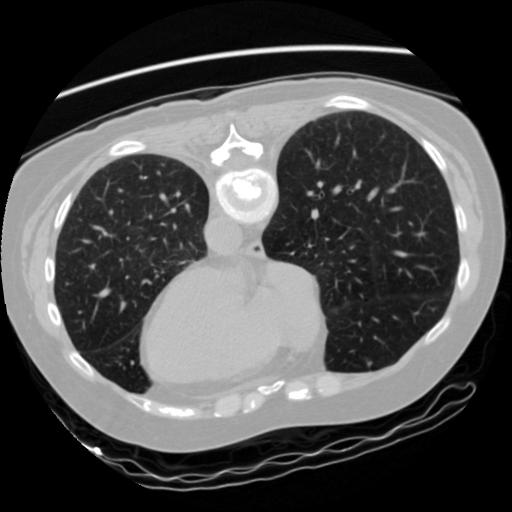nodule: (365, 359, 377, 371)
